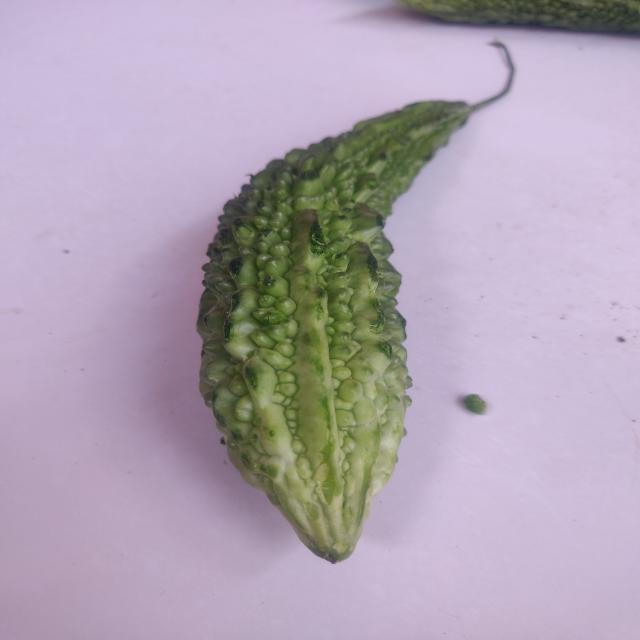Bitter Gourd: (158, 32, 548, 571)
